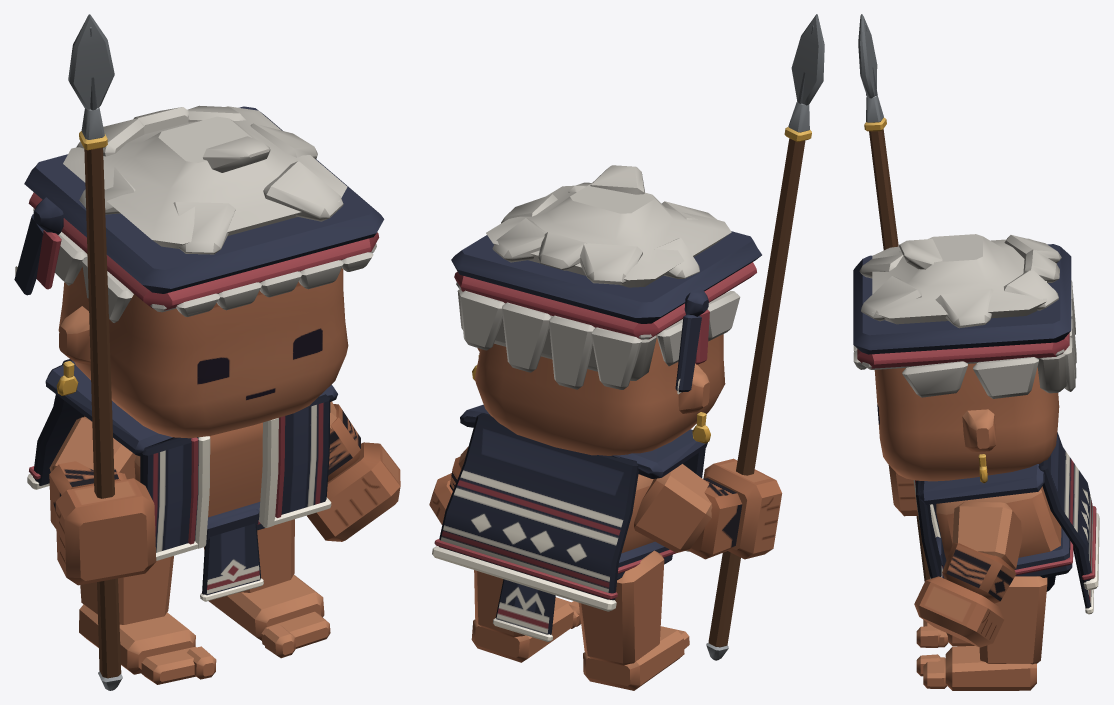
The model's file is audience_v2_elder_man_stand.glb.
3 views of the same model, side by side, from view 1: azimuth 30°, elevation 25°; view 2: azimuth 150°, elevation 25°; view 3: azimuth 270°, elevation 25° (orthographic). The views are drawn at different scales.
Visible parts, largest first — view 1: audience_v2_elder_man_stand; view 2: audience_v2_elder_man_stand; view 3: audience_v2_elder_man_stand.
Boxes of the visible parts, x1,y1,x2,y2 form: audience_v2_elder_man_stand: [14, 14, 400, 690]; audience_v2_elder_man_stand: [429, 14, 824, 690]; audience_v2_elder_man_stand: [853, 14, 1099, 690].
Size of the model in its own units: 0.5368 by 0.9573 by 0.3734.
1 material, 1 textured.
